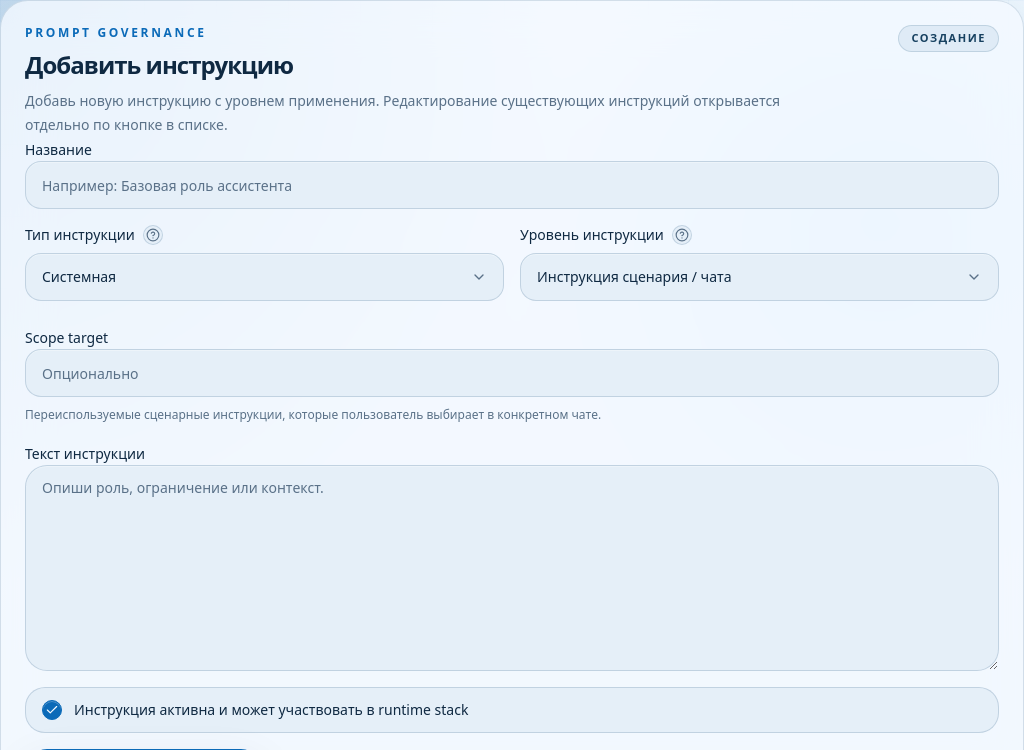
InstructionLibraryPanel › renders instruction type options in Russian
Click the dropdown named "Тип инструкции".
click(79, 276)  # box [25,253,504,301]
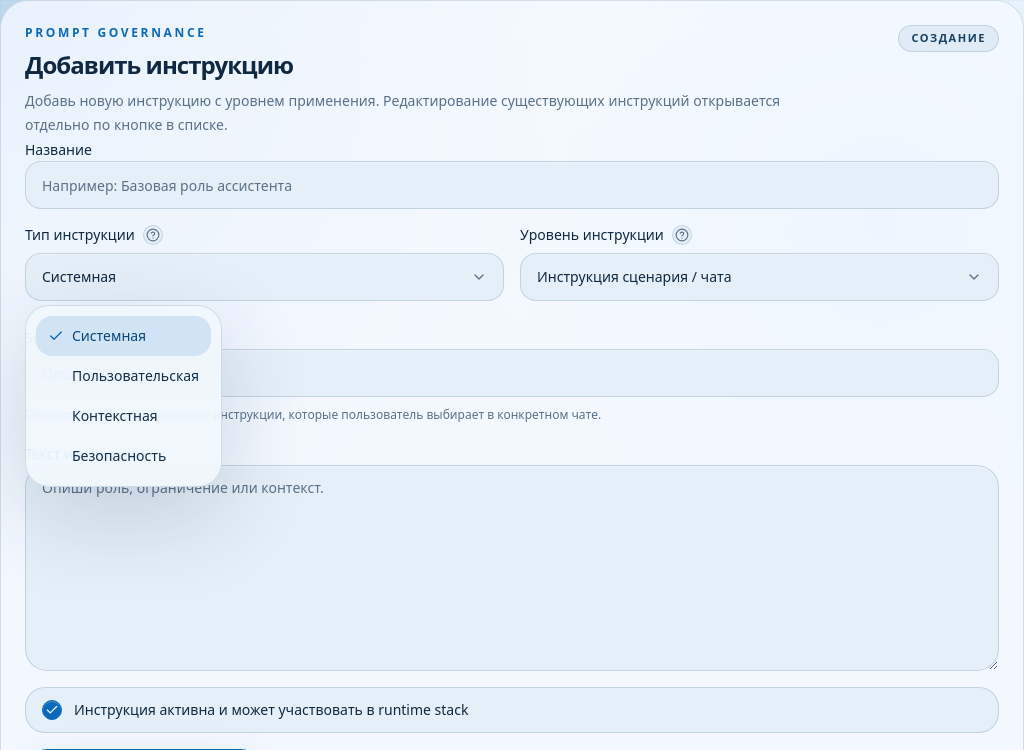
Expected: the option "Системная" is shown, [36,316,211,356]
Expected: the option "Пользовательская" is shown, [72,366,199,385]
Expected: the option "Контекстная" is shown, [72,406,158,425]
